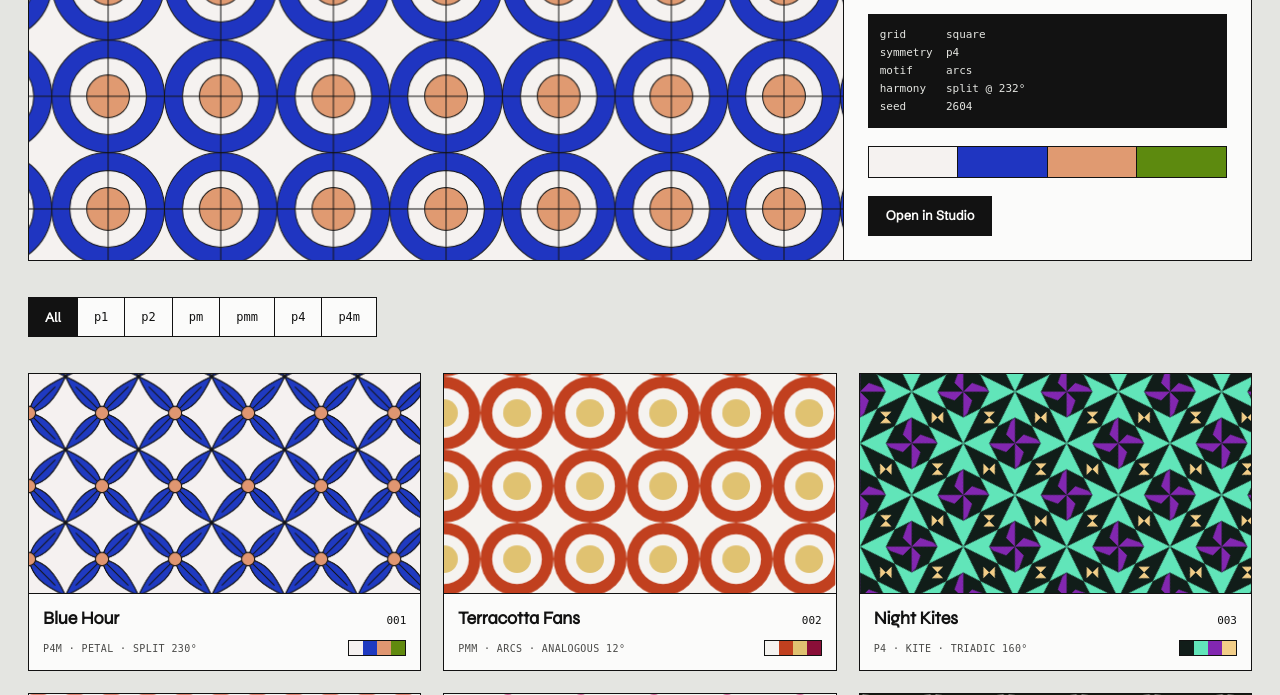
Test case: Specimens › filters by symmetry
This screenshot has width=1280, height=695.
(page scrolled)
Click the button "p1": click(102, 317) [78,298,125,336]
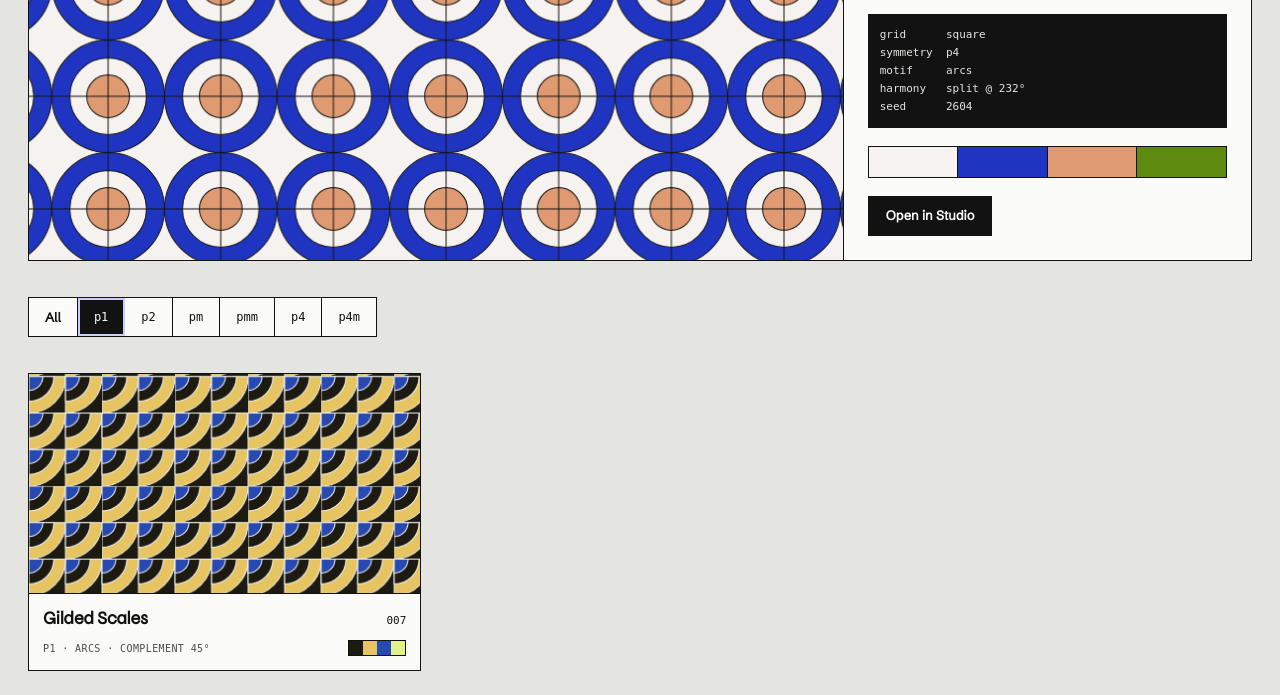
Expected: the heading "Gilded Scales" is shown, [43,606,148,630]
Expected: the link "Blue Hour" is gone
